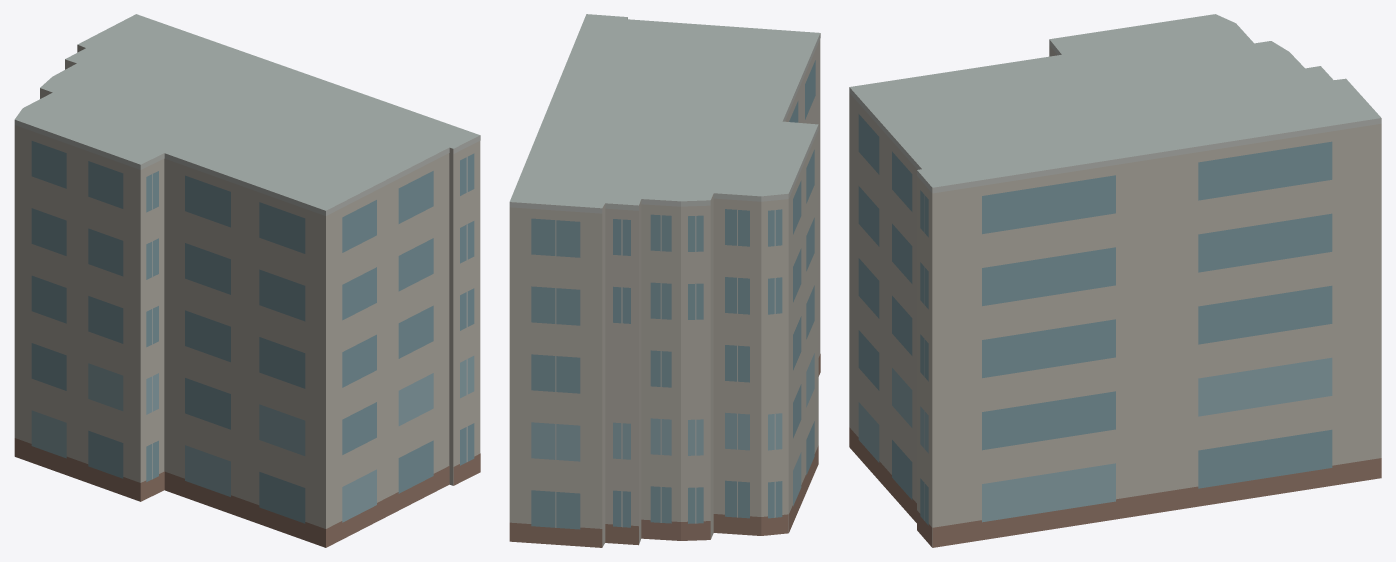
The model's file is survey-upis-32672515.glb.
The picture shows the model from 3 angles, left to right: view 1: azimuth 30°, elevation 25°; view 2: azimuth 150°, elevation 25°; view 3: azimuth 270°, elevation 25°; orthographic projection. The views are drawn at different scales.
Parts seen in each view (by area): view 1: survey-upis-32672515.tmp; view 2: survey-upis-32672515.tmp; view 3: survey-upis-32672515.tmp.
Part boxes in pixels (x1,y1,x2,y2): survey-upis-32672515.tmp: [14, 14, 480, 547]; survey-upis-32672515.tmp: [509, 14, 820, 547]; survey-upis-32672515.tmp: [849, 14, 1381, 547].
Size of the model in its own units: 16 by 15.45 by 20.71.
